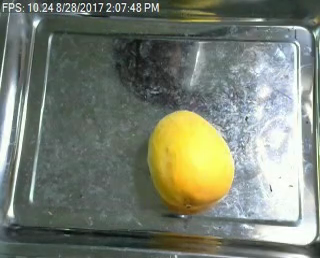Mango: (143, 108, 234, 210)
